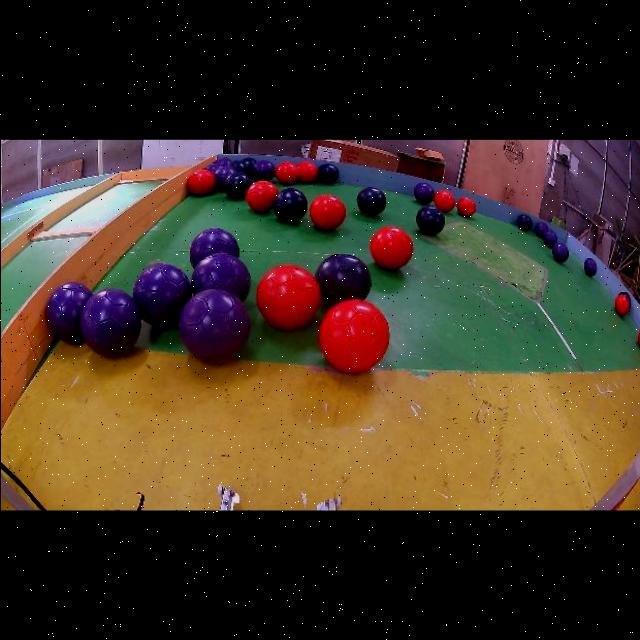B: (314, 252, 370, 306), (272, 188, 307, 221), (415, 205, 445, 234), (356, 187, 385, 215), (223, 171, 251, 198), (317, 163, 338, 184), (516, 214, 531, 230), (229, 159, 247, 172), (241, 157, 256, 171), (618, 291, 630, 307)
P: (178, 288, 250, 363), (79, 288, 140, 356), (131, 263, 190, 327), (190, 252, 250, 301), (45, 281, 91, 343), (189, 227, 238, 267), (212, 165, 234, 190), (412, 181, 434, 203), (251, 159, 274, 180), (552, 242, 567, 263), (541, 229, 557, 247), (583, 258, 597, 276), (534, 221, 548, 237), (205, 162, 220, 172), (215, 157, 230, 165)
R: (317, 299, 389, 371), (255, 264, 319, 328), (369, 225, 412, 269), (309, 194, 345, 229), (245, 180, 277, 211), (187, 168, 214, 194), (274, 161, 298, 184), (433, 189, 454, 211), (296, 161, 317, 181), (456, 196, 474, 216), (614, 292, 629, 316), (637, 329, 640, 348)
